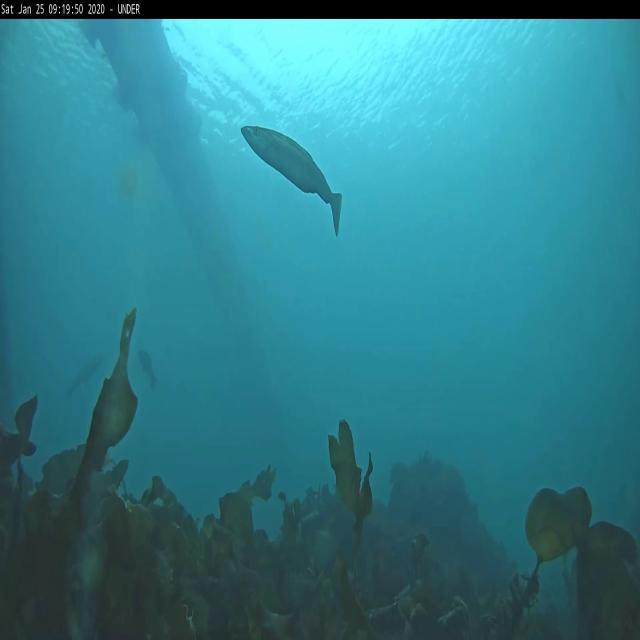fish: (240, 124, 348, 238), (69, 359, 104, 398), (138, 346, 160, 391)
